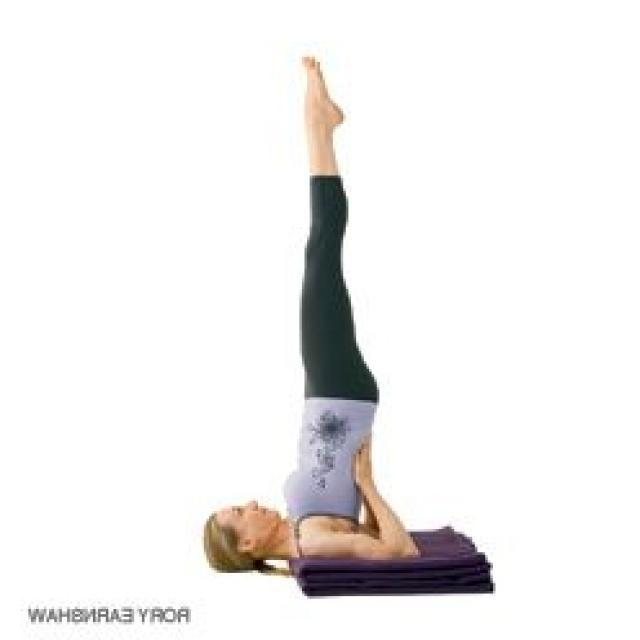yoga-pose shoulderstand: (200, 49, 418, 564)
